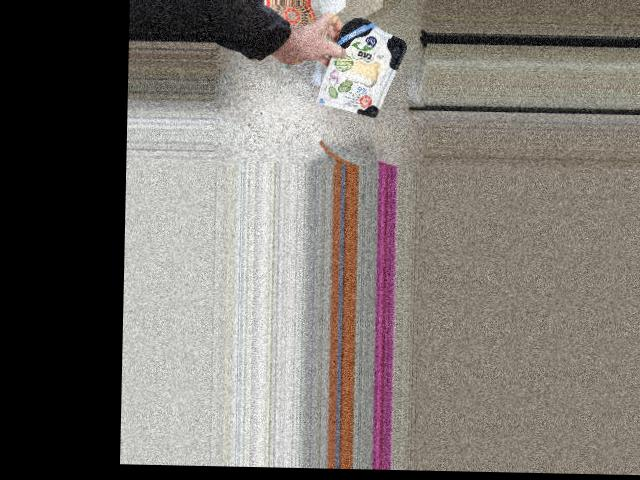cheese: (331, 14, 400, 117)
